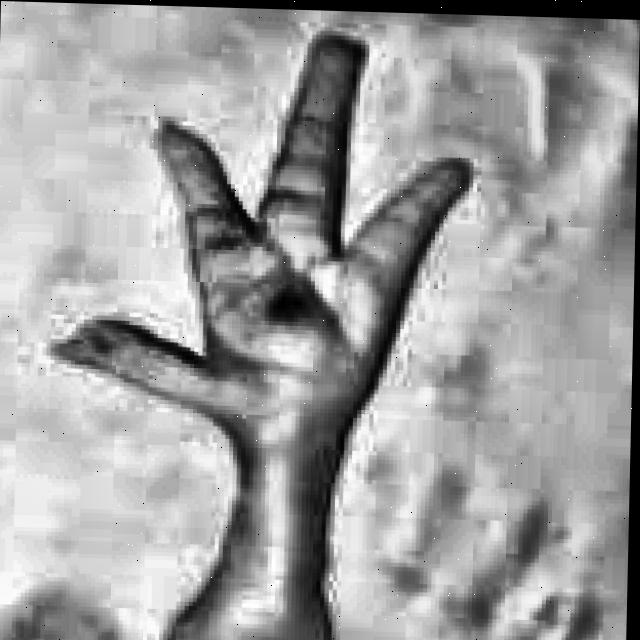Bumble foot: (42, 26, 479, 640)
